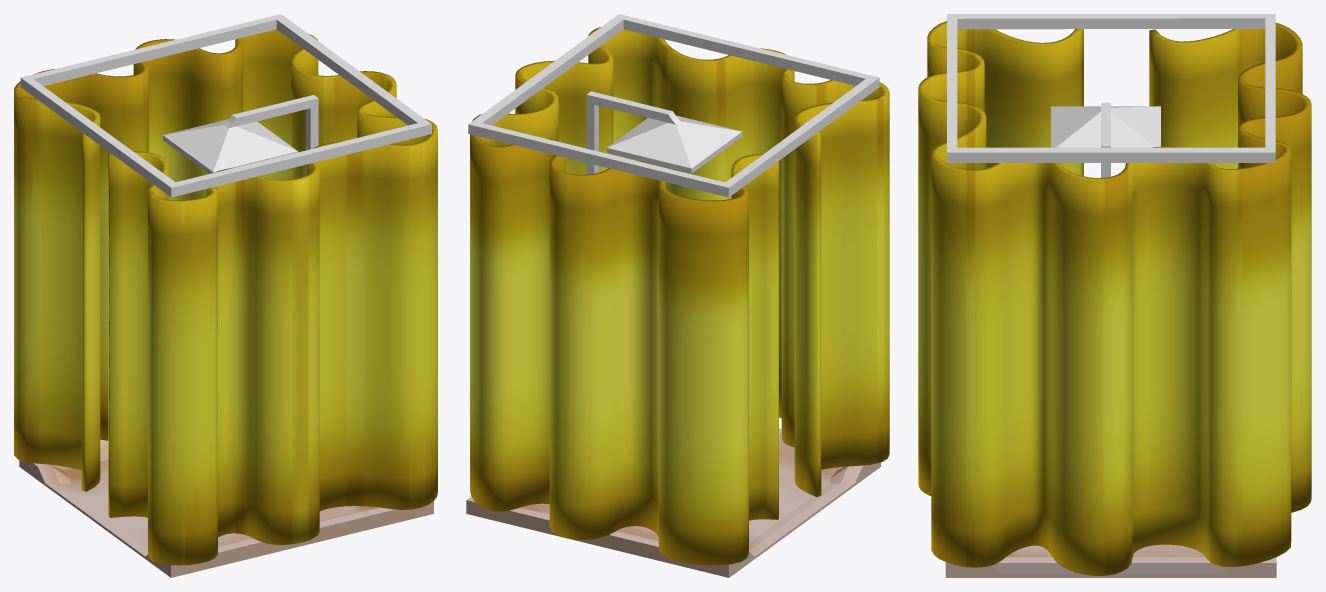
Rendered from Item_Shower.fbx.
3 renders of one model, left to right at view 1: azimuth 30°, elevation 25°; view 2: azimuth 150°, elevation 25°; view 3: azimuth 270°, elevation 25°, orthographic. The views are drawn at different scales.
Visible parts, largest first — view 1: Curtain, Rail, Drain, Cube; view 2: Curtain, Rail, Drain, Cube; view 3: Curtain, Rail, Drain, Cube.
Boxes of the visible parts, <box> form: Curtain: <box>14,29,437,565</box>; Rail: <box>20,14,431,197</box>; Drain: <box>19,439,433,577</box>; Cube: <box>163,95,318,175</box>; Curtain: <box>470,27,889,565</box>; Rail: <box>468,14,879,197</box>; Drain: <box>466,428,880,577</box>; Cube: <box>586,91,742,174</box>; Curtain: <box>918,21,1311,575</box>; Rail: <box>947,14,1275,162</box>; Drain: <box>945,544,1276,577</box>; Cube: <box>1051,102,1160,177</box>.
Size of the model in its own units: 116 by 142 by 119.
